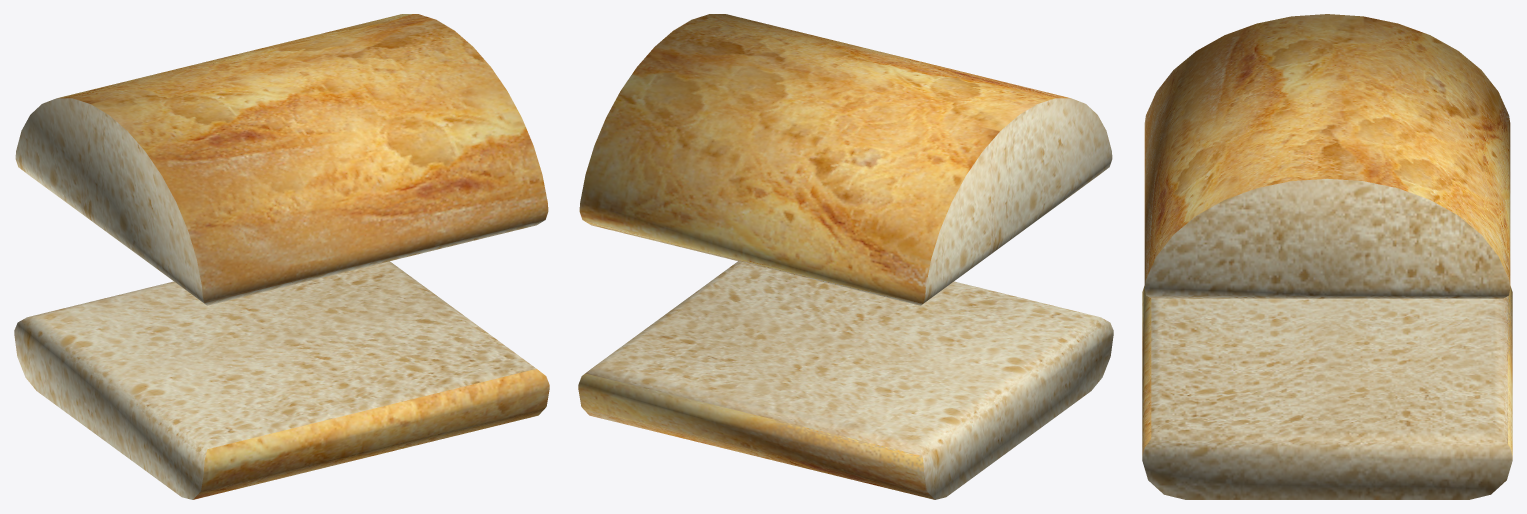
File: baguette.glb
3 renders of one model, left to right at view 1: azimuth 30°, elevation 25°; view 2: azimuth 150°, elevation 25°; view 3: azimuth 270°, elevation 25°, orthographic. The views are drawn at different scales.
Parts seen in each view (by area): view 1: Baguette; view 2: Baguette; view 3: Baguette.
Part boxes in pixels (<box>): Baguette: <box>14,14,549,499</box>; Baguette: <box>578,14,1113,499</box>; Baguette: <box>1142,14,1512,499</box>.
Bounding box in the file's own units: 1.54 × 1.4 × 1.47.
Materials: 1 (1 with a texture image).
